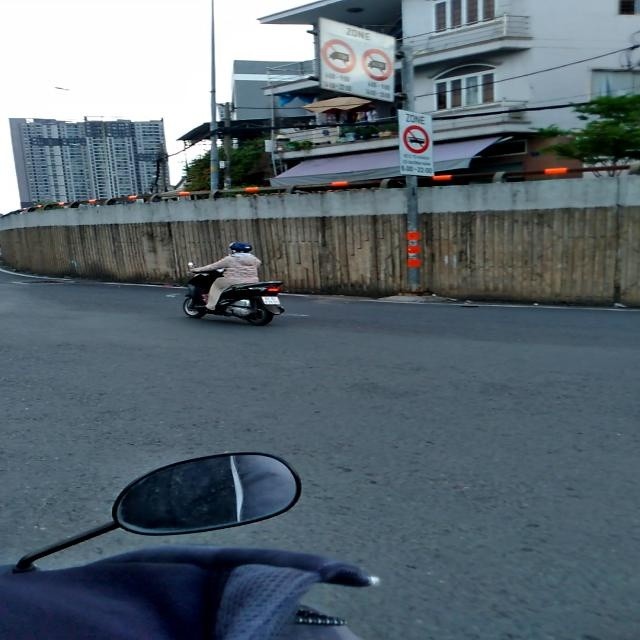bien_cam: (321, 39, 356, 73), (361, 48, 393, 82), (403, 125, 430, 154)
